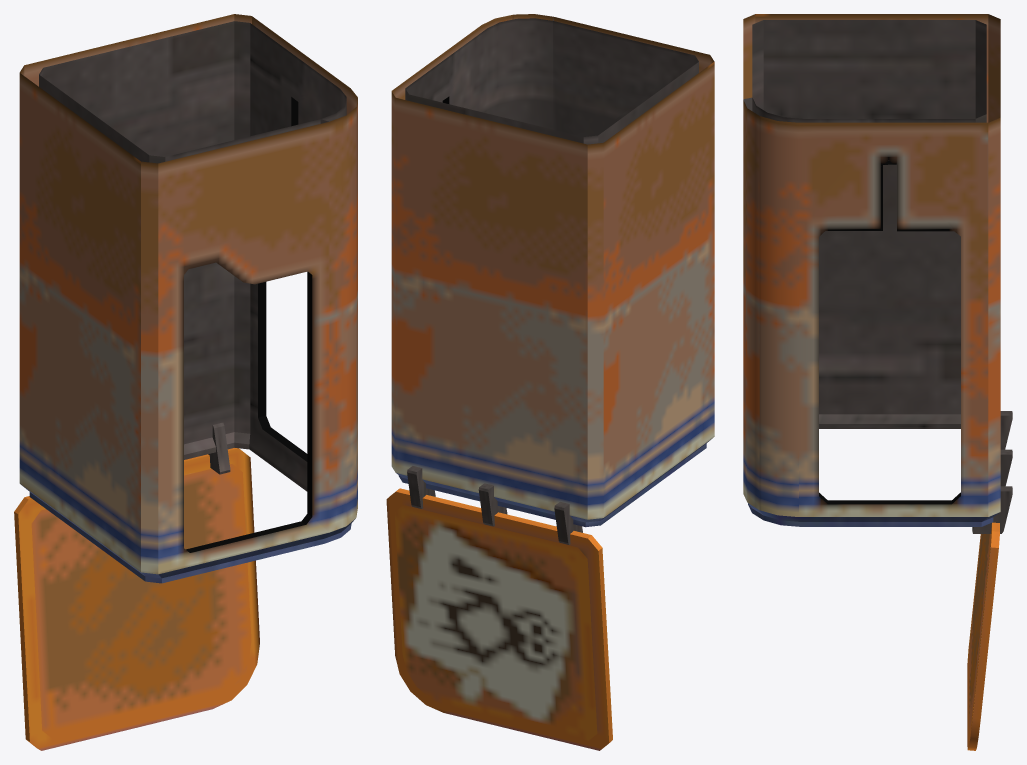
3 renders of one model, left to right at view 1: azimuth 30°, elevation 25°; view 2: azimuth 150°, elevation 25°; view 3: azimuth 270°, elevation 25°, orthographic. The views are drawn at different scales.
Visible parts, largest first — view 1: main, trapdoor, hinges; view 2: main, trapdoor, hinges; view 3: main, trapdoor, hinges.
Boxes of the visible parts, x1,y1,x2,y2 form: main: (19, 14, 357, 583); trapdoor: (14, 448, 259, 750); hinges: (208, 422, 230, 474); main: (391, 14, 714, 527); trapdoor: (386, 488, 612, 750); hinges: (407, 466, 582, 544); main: (743, 14, 1000, 526); trapdoor: (967, 522, 999, 750); hinges: (972, 411, 1012, 533).
Size of the model in its own units: 363 by 1005 by 380.
